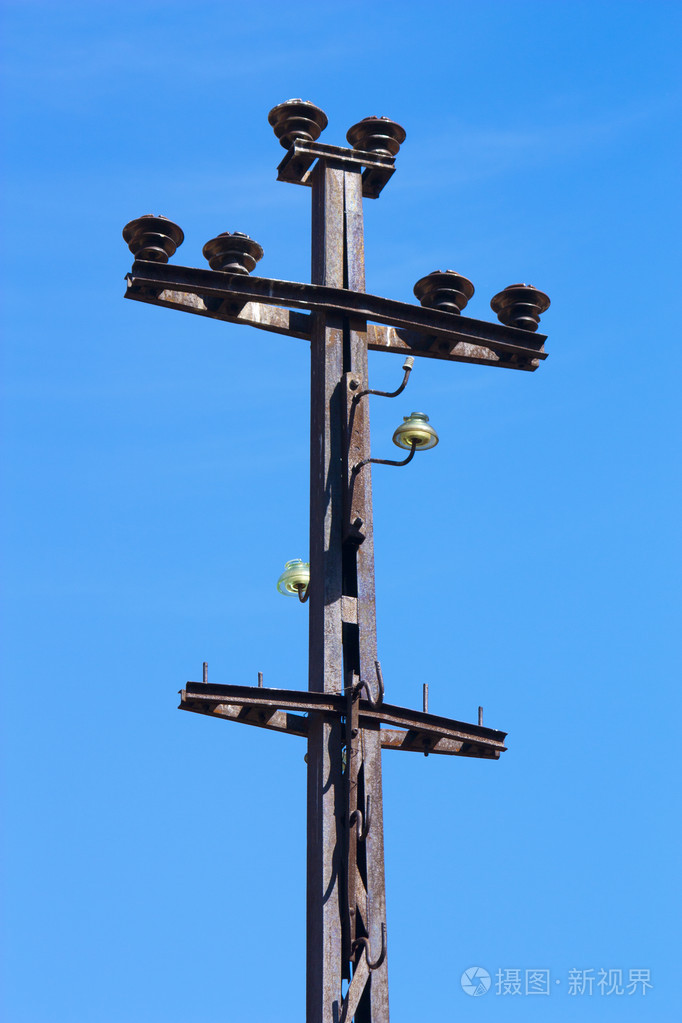insulator: (201, 231, 267, 281), (491, 282, 554, 329), (347, 111, 409, 158), (124, 210, 176, 266), (269, 96, 324, 148), (416, 268, 473, 317)
